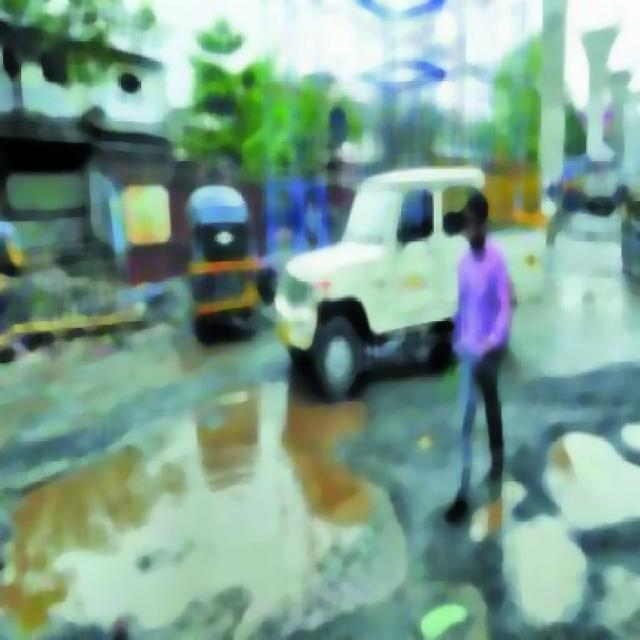pothole: (18, 408, 391, 639), (533, 416, 639, 515), (506, 536, 603, 639)
